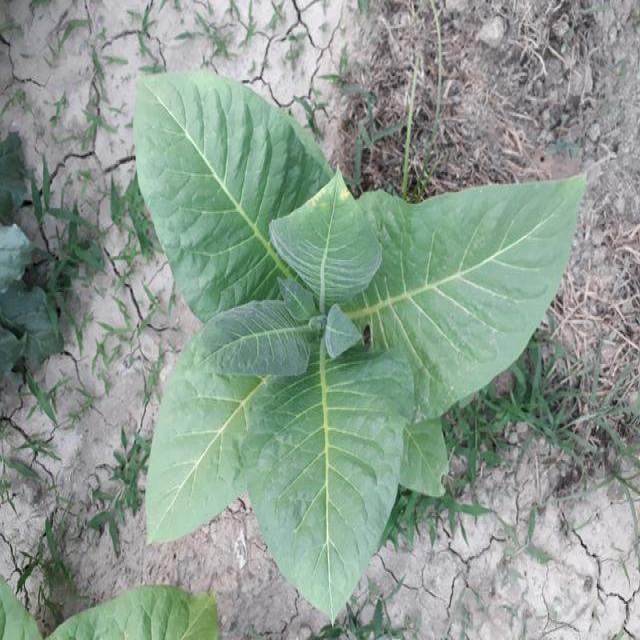crop: (130, 68, 560, 610), (0, 587, 223, 640)
